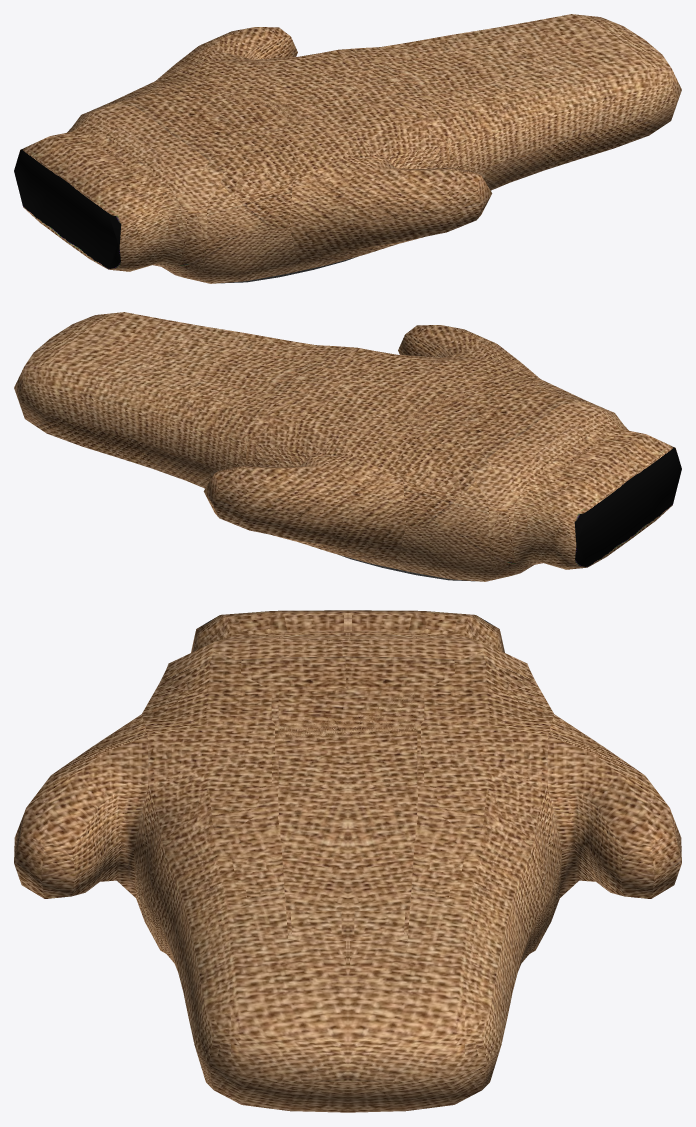
The model's file is hand_re.fbx.
The picture shows the model from 3 angles, top to bottom: view 1: azimuth 30°, elevation 25°; view 2: azimuth 150°, elevation 25°; view 3: azimuth 270°, elevation 25°; orthographic projection. The views are drawn at different scales.
Parts seen in each view (by area): view 1: Cube.001, Cube.002; view 2: Cube.002, Cube.001; view 3: Cube.001, Cube.002.
Boxes of the visible parts, x1=… form: Cube.001: x1=14, y1=14, x2=676, y2=281; Cube.002: x1=14, y1=27, x2=681, y2=283; Cube.002: x1=19, y1=312, x2=681, y2=579; Cube.001: x1=14, y1=325, x2=681, y2=581; Cube.001: x1=14, y1=610, x2=553, y2=1112; Cube.002: x1=142, y1=610, x2=681, y2=1112.
Bounding box in the file's own units: 371 × 76.34 × 242.
